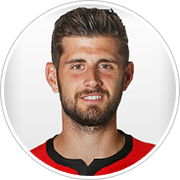face: (43, 43, 135, 124)
